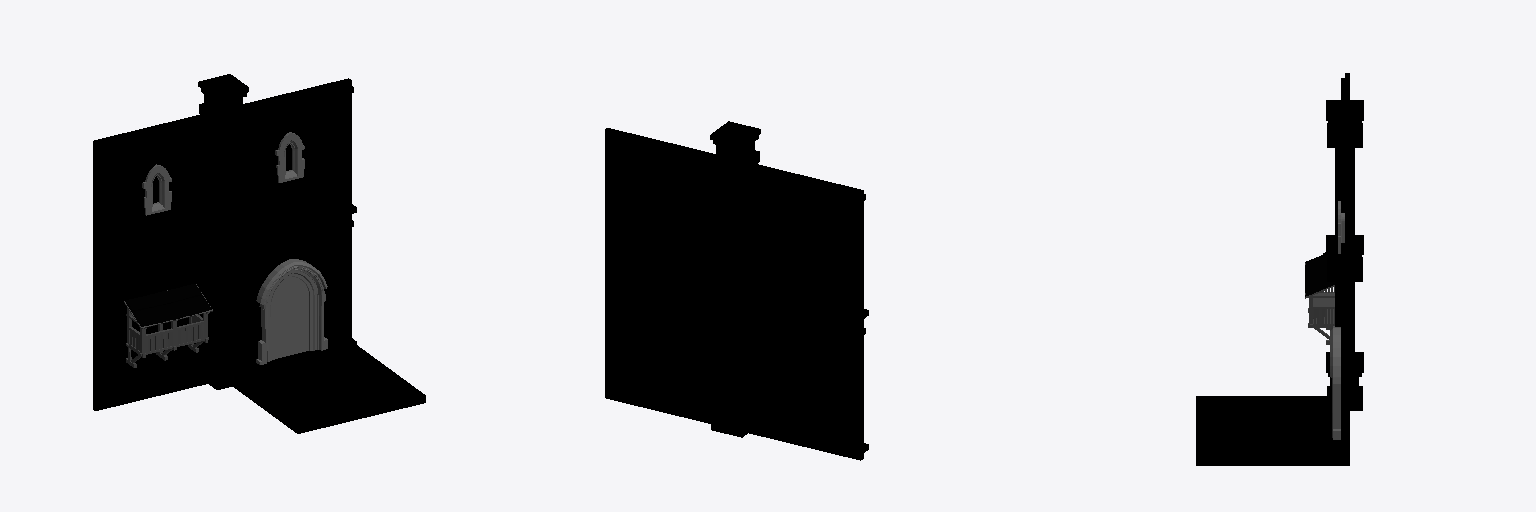
3 views of the same model, side by side, from view 1: azimuth 30°, elevation 25°; view 2: azimuth 150°, elevation 25°; view 3: azimuth 270°, elevation 25° (orthographic).
Visible parts, largest first — view 1: object_5, object_8, object_6, object_10, Plane.017, Cube.049_Cube.075, object_4, object_3, object_1, object_17, Plane.007, object_26 (+12 smaller); view 2: object_5, object_6, object_8, object_10, object_17, object_26, object_16, object_24, object_13; view 3: object_4, object_1, object_3, Cube.049_Cube.075, object_2, Plane.017, object_17, object_8, object_16, object_10, object_7.
Boxes of the visible parts, x1,y1,x2,y2 form: object_5: [93, 113, 214, 276]; object_8: [237, 78, 351, 240]; object_6: [93, 250, 214, 410]; object_10: [237, 215, 351, 364]; Plane.017: [256, 259, 327, 364]; Cube.049_Cube.075: [124, 284, 212, 367]; object_4: [233, 355, 425, 433]; object_3: [233, 369, 328, 433]; object_1: [325, 345, 425, 409]; object_17: [215, 123, 236, 224]; Plane.007: [142, 132, 304, 215]; object_26: [215, 257, 236, 341]; object_5: [741, 163, 863, 325]; object_6: [741, 299, 863, 460]; object_8: [605, 128, 721, 289]; object_10: [605, 264, 721, 423]; object_17: [722, 170, 740, 271]; object_26: [722, 304, 740, 389]; object_16: [710, 121, 760, 147]; object_24: [716, 397, 744, 425]; object_13: [711, 150, 759, 174]; object_4: [1196, 414, 1344, 465]; object_1: [1196, 443, 1338, 465]; object_3: [1196, 396, 1331, 413]; Cube.049_Cube.075: [1305, 252, 1334, 344]; object_2: [1196, 412, 1232, 442]; Plane.017: [1330, 326, 1340, 439]; object_17: [1335, 148, 1354, 246]; object_8: [1345, 143, 1349, 331]; object_16: [1326, 100, 1363, 120]; object_10: [1345, 332, 1349, 465]; object_7: [1335, 265, 1344, 326].
Bounding box in the file's own units: 20 × 22.01 × 11.28.